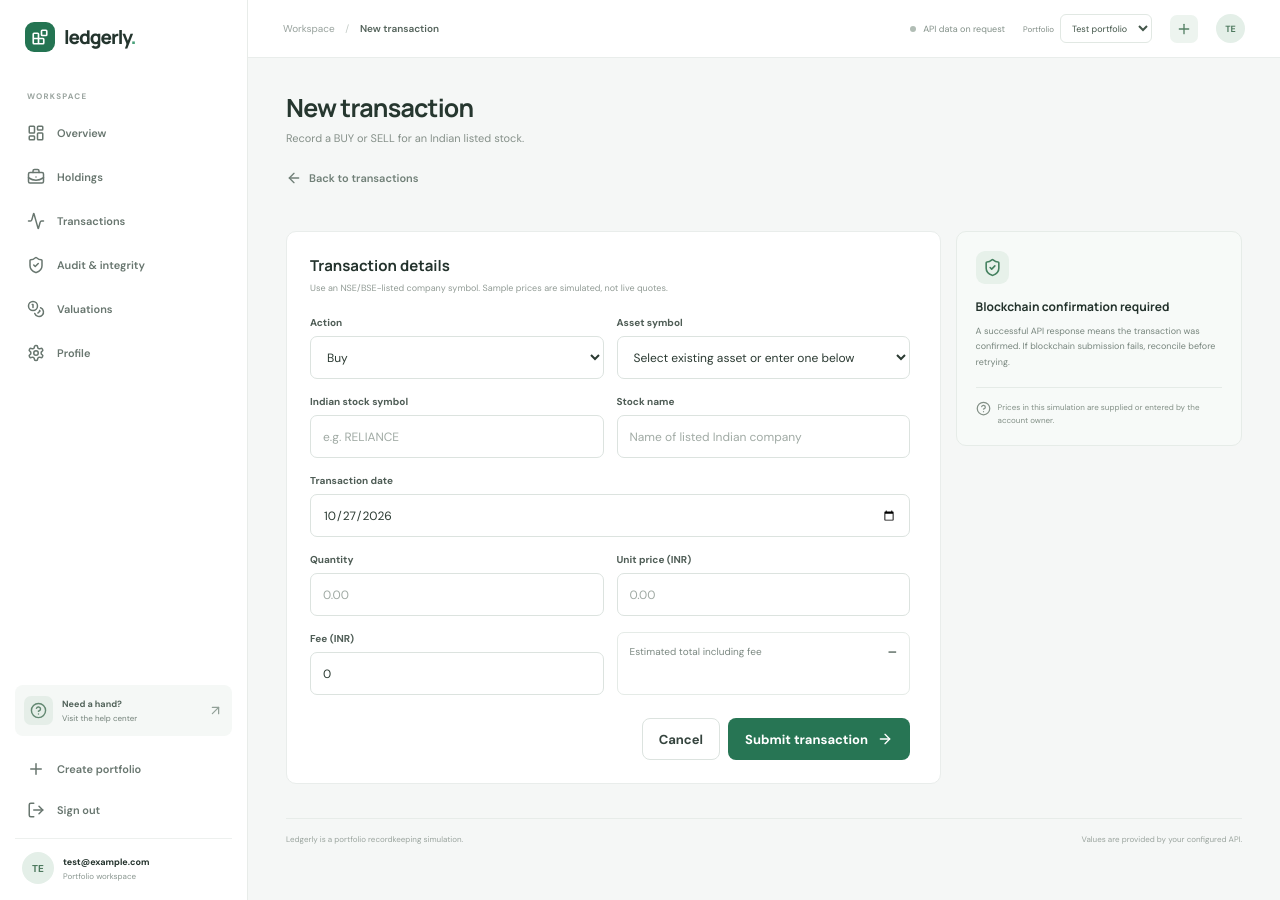
Test: portfolio transaction form integration › previews SELL proceeds after fees and preserves decimal strings in the payload
Type "reliance" into the field labelled "Indian stock symbol".
click(457, 436); type("reliance")  # box [310,415,604,458]
Type "Reliance Industries Limited" into the field labelled "Stock name".
click(763, 436); type("Reliance Industries Limited")  # box [616,415,910,458]
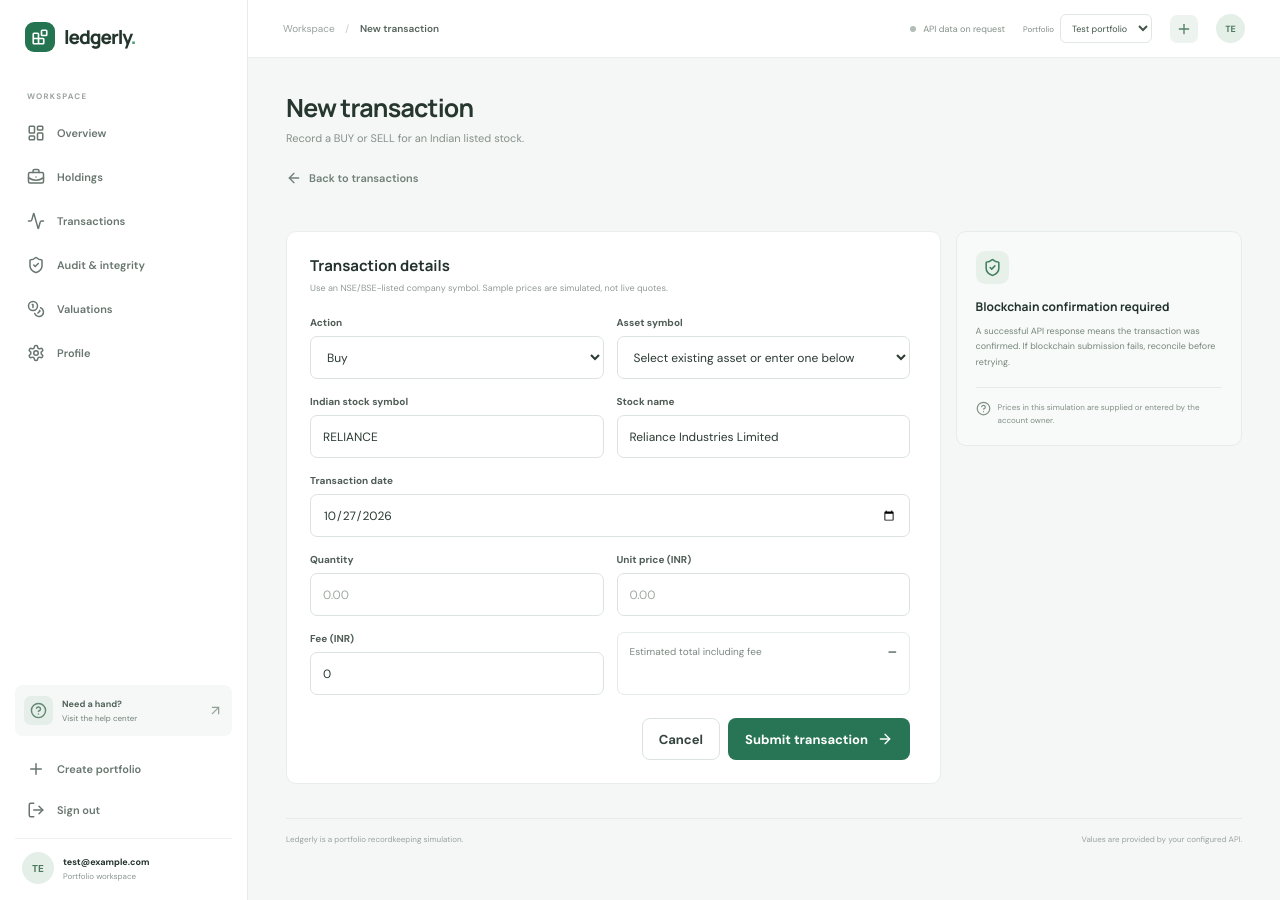
Select "Sell" in the dropdown labelled "Action" at point(457, 358), box [310,336,604,379]
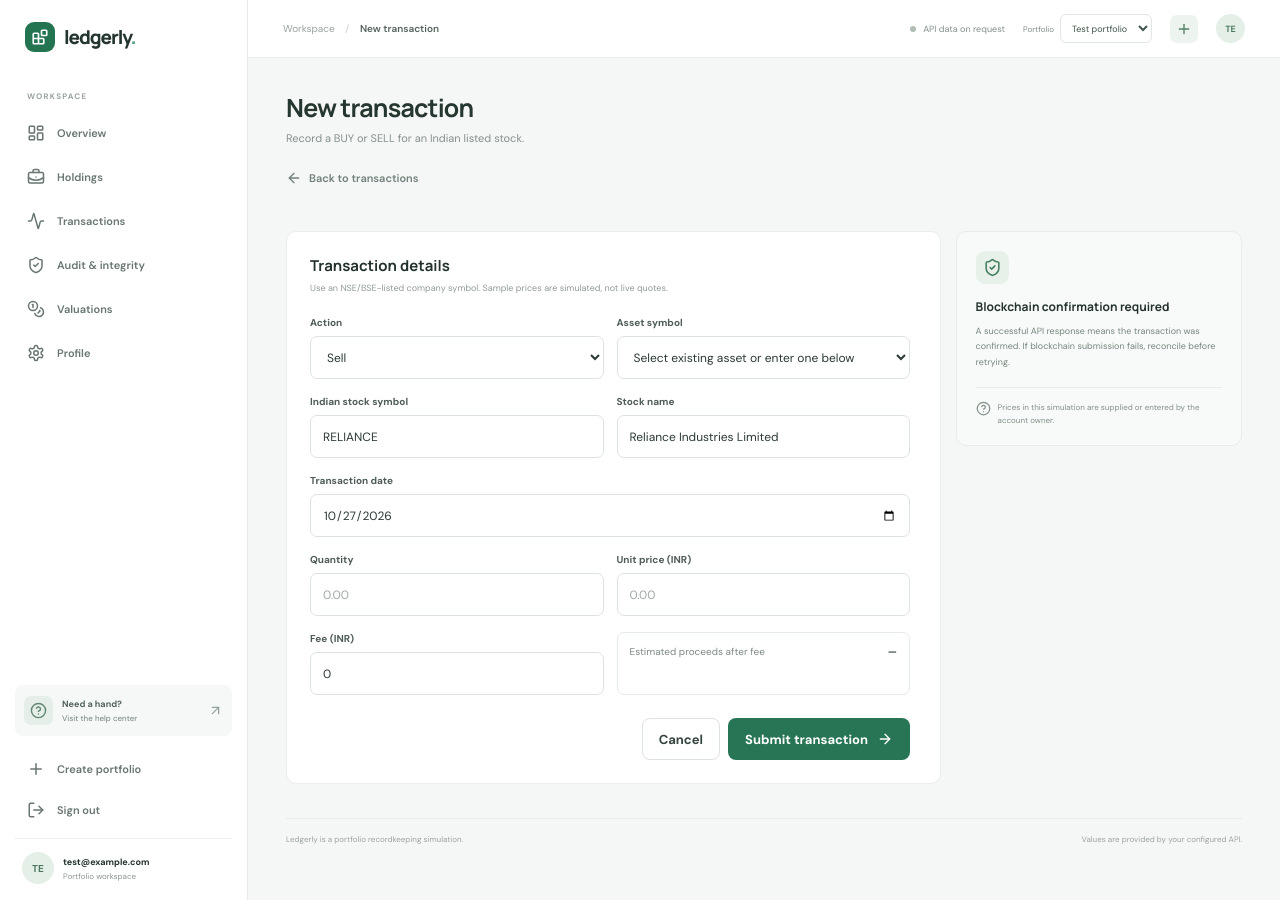
Type "2.125" into the number field labelled "Quantity".
click(457, 594); type("2.125")  # box [310,573,604,616]
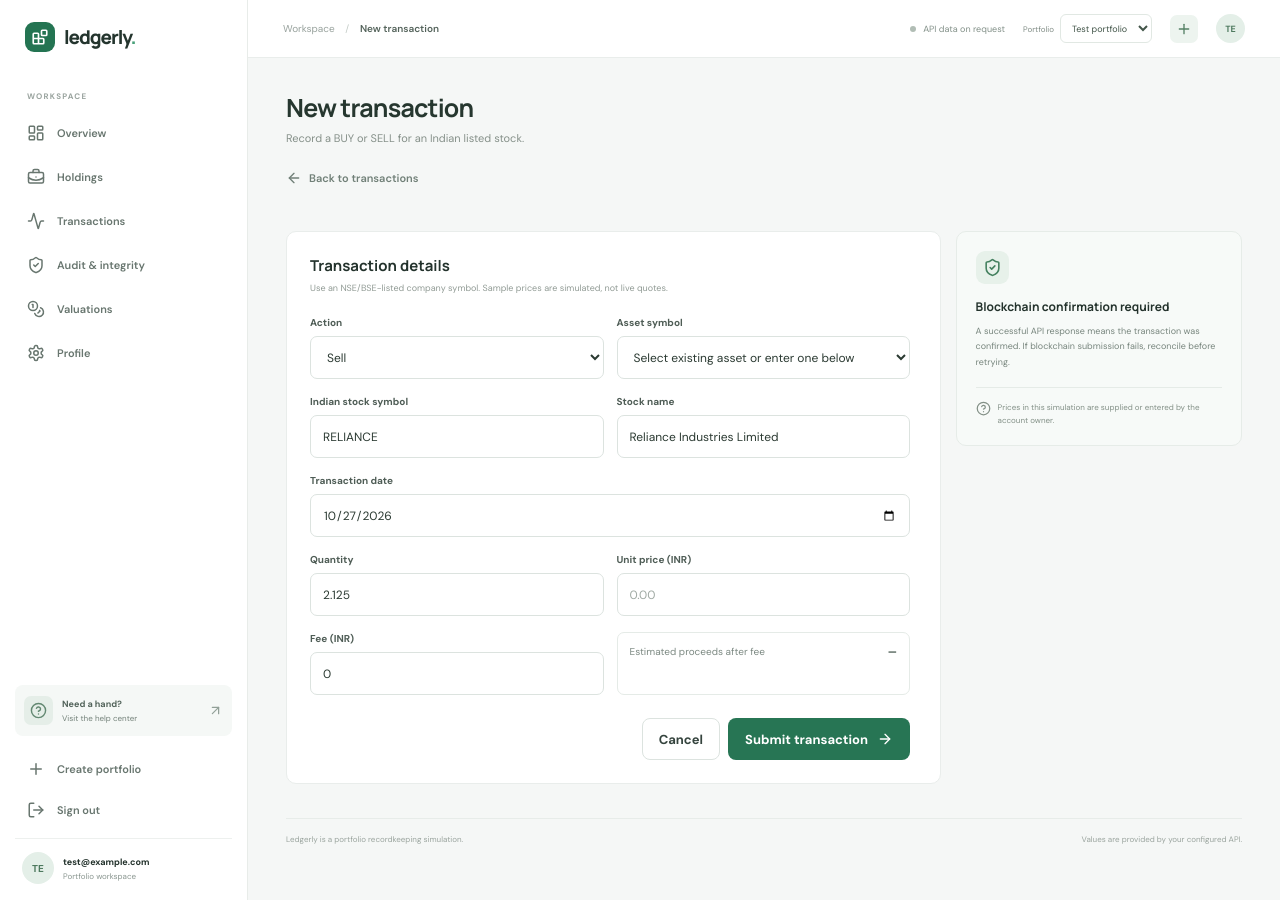
Type "10.50" into the number field labelled "Unit price (INR)".
click(763, 594); type("10.50")  # box [616,573,910,616]
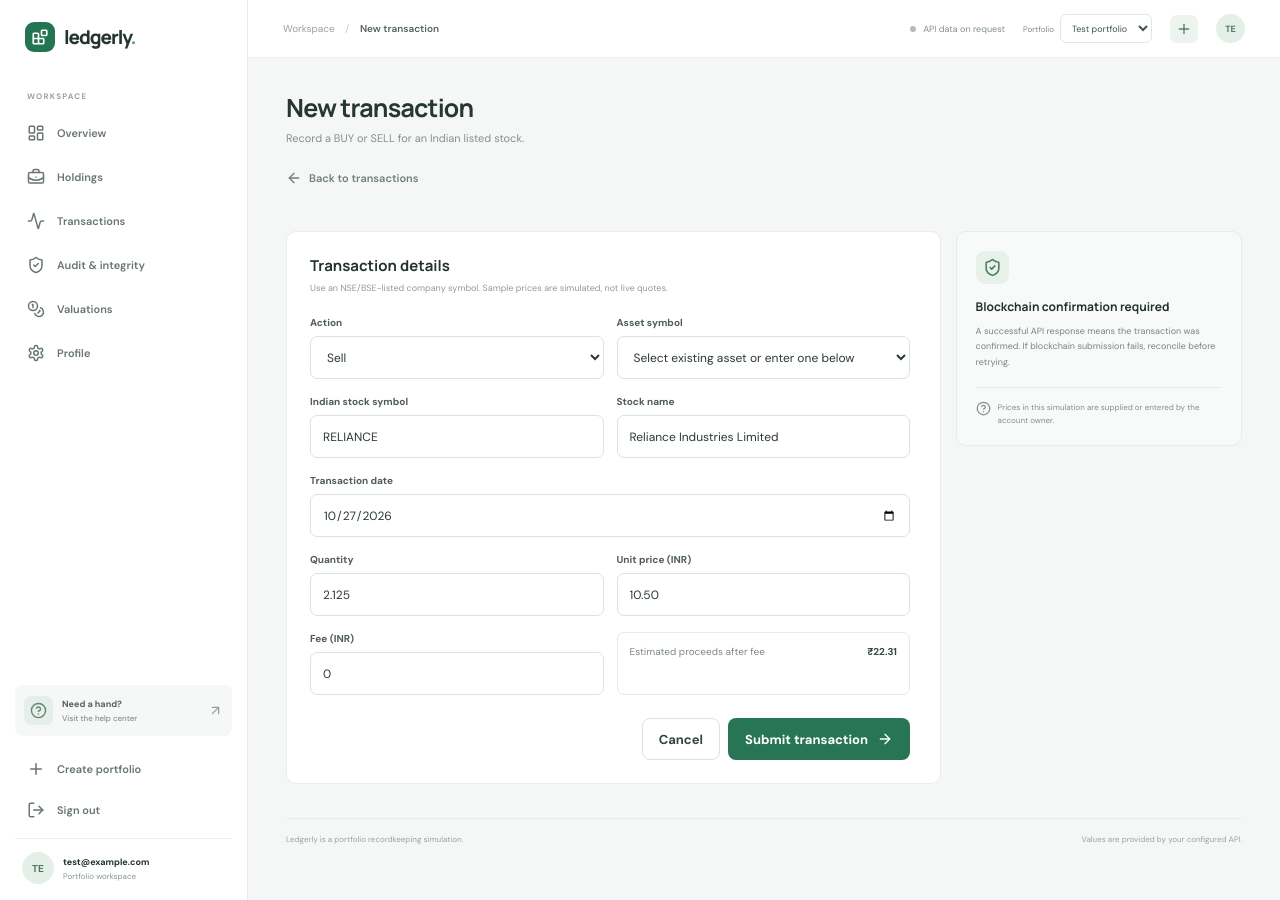
Replace the text in the number field labelled "Fee (INR)" with "0.25" at point(457, 674), box [310,652,604,695]
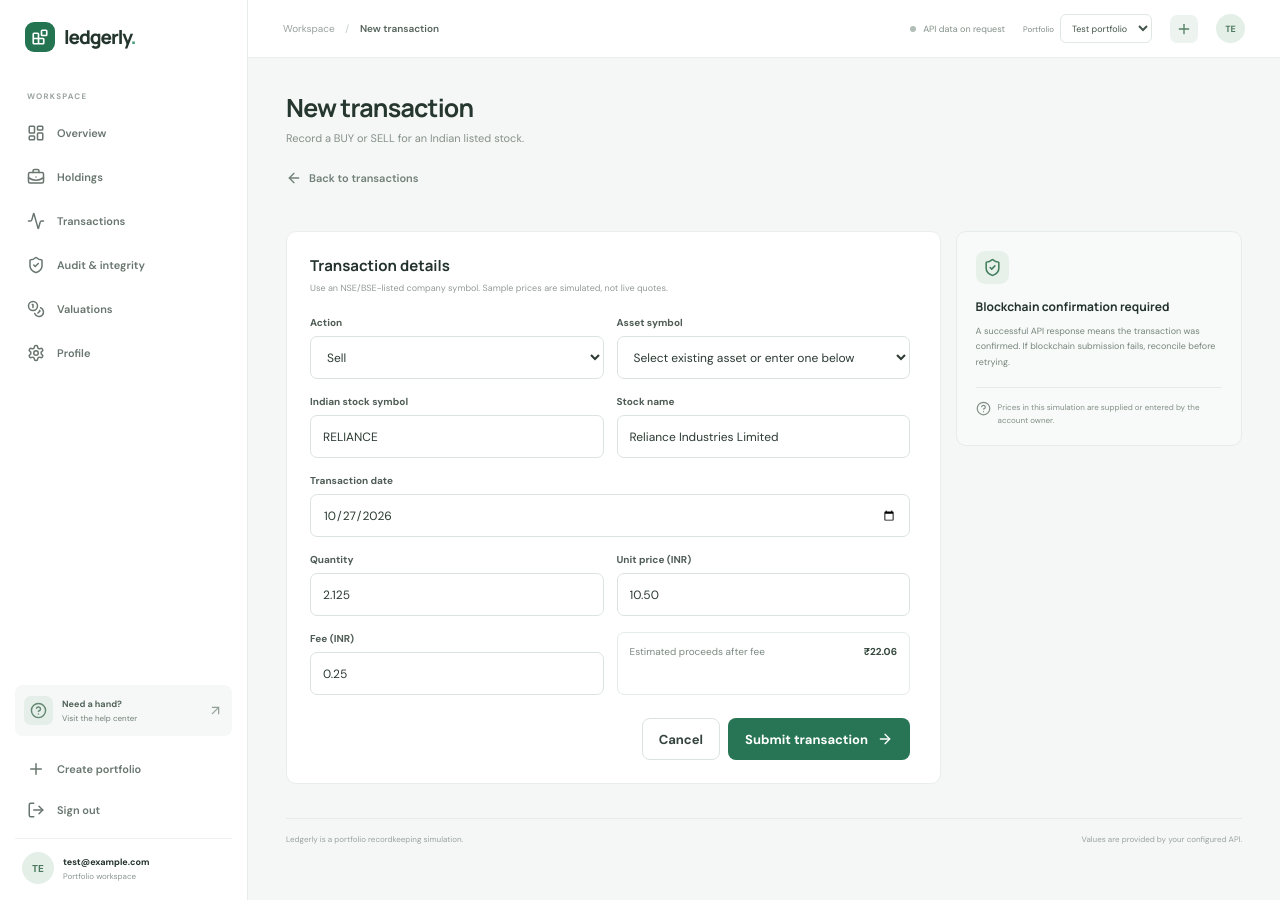
Now the text "₹22.06" is shown, box [864,645,897,658]
Click the button "Submit transaction".
click(819, 739)  # box [728,718,910,760]
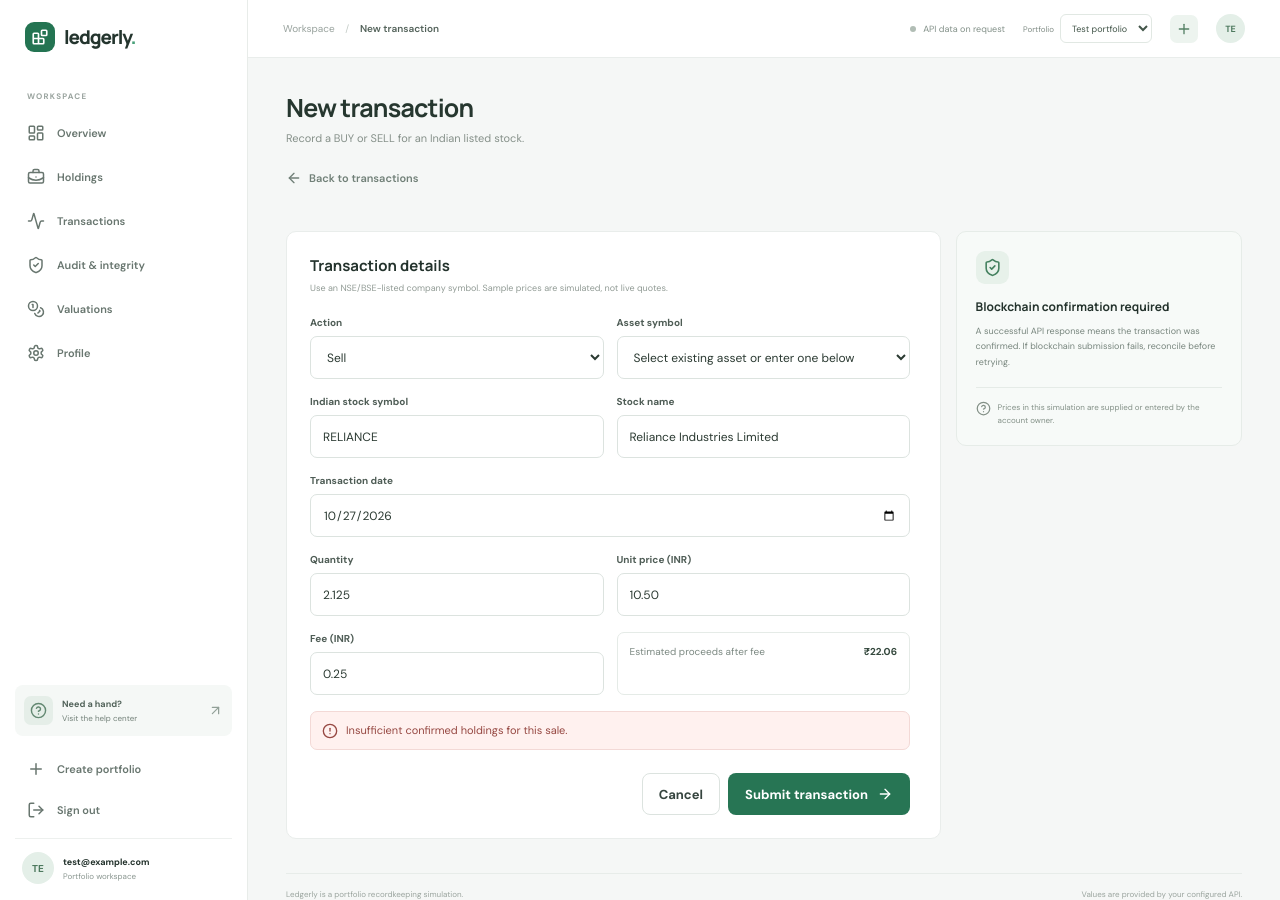
Now the message reads "Insufficient confirmed holdings for this sale.", box [346,723,568,737]
